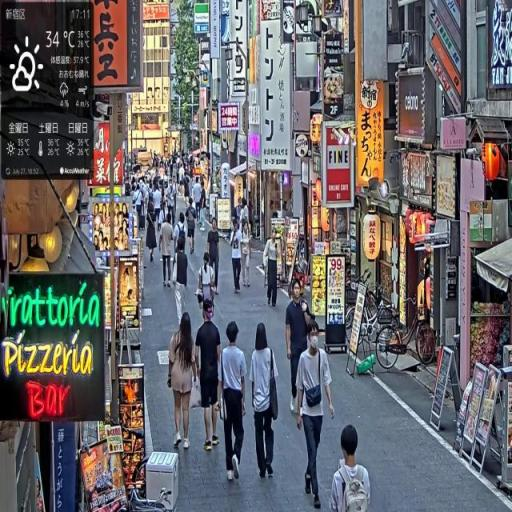person: (295, 324, 337, 512), (251, 322, 282, 483), (219, 320, 249, 485), (195, 297, 224, 455), (168, 311, 200, 454), (287, 278, 317, 419), (331, 424, 374, 512), (173, 238, 190, 328), (263, 231, 281, 308), (160, 213, 177, 291), (199, 253, 217, 320), (208, 217, 223, 296), (229, 219, 244, 297), (241, 218, 254, 290), (186, 197, 199, 256)
